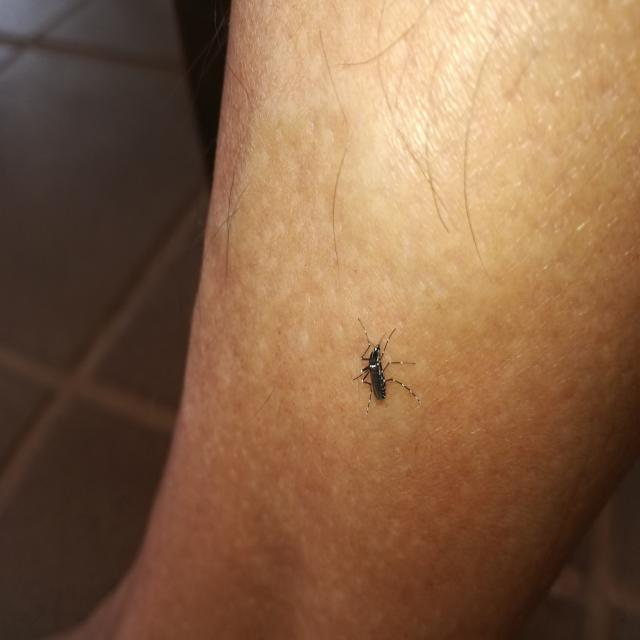albopictus: (352, 316, 418, 416)
